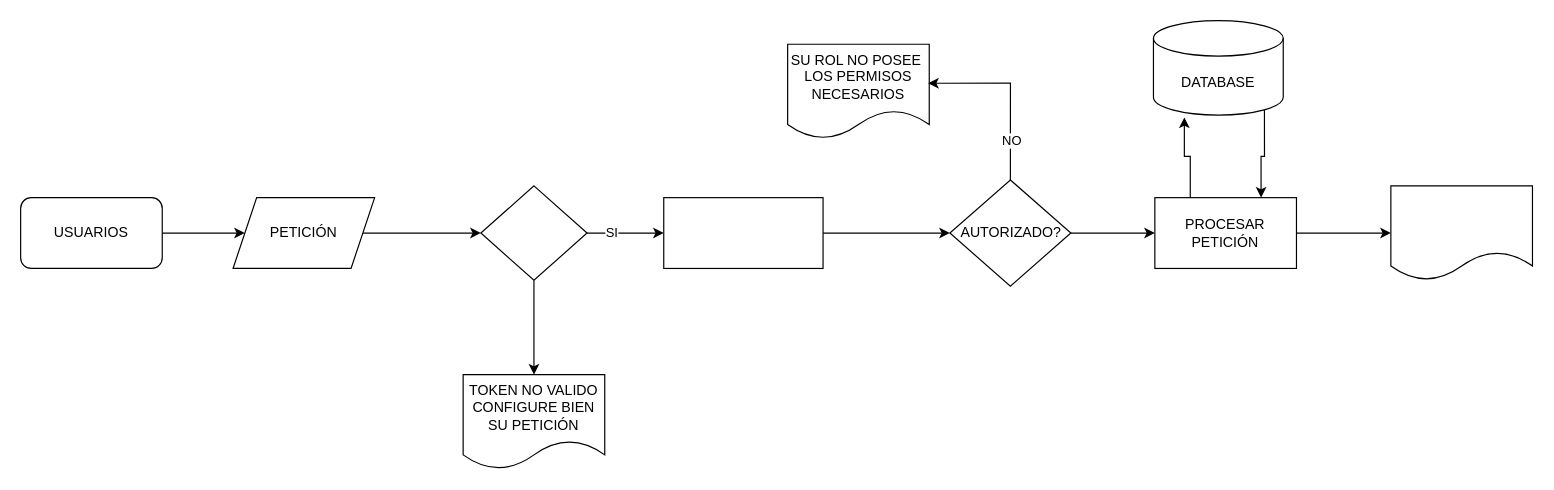
Image size: 1554x490. Some labels were removed from this diagram. The shapes that lost their labels are listed below. From the top down, each one's centre as x and y in pixels, then its label:
At (533,232): "TOKEN?".
At (743,232): "EVALUAR PERMISOS DEL ROL".
At (1461,232): "REPUESTA JSON".
